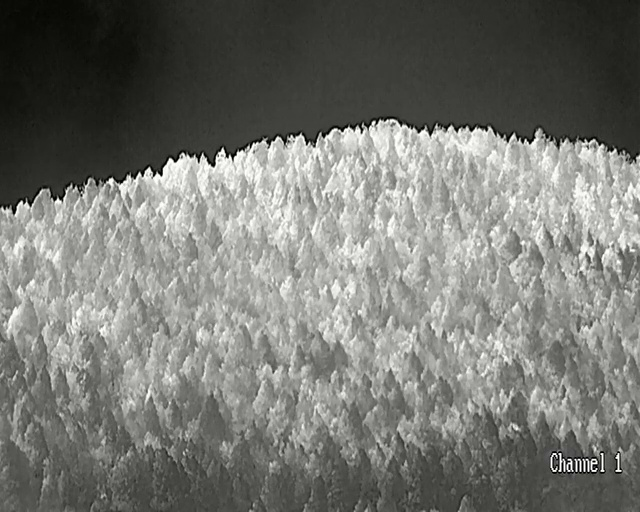uav: (262, 135, 268, 139)
